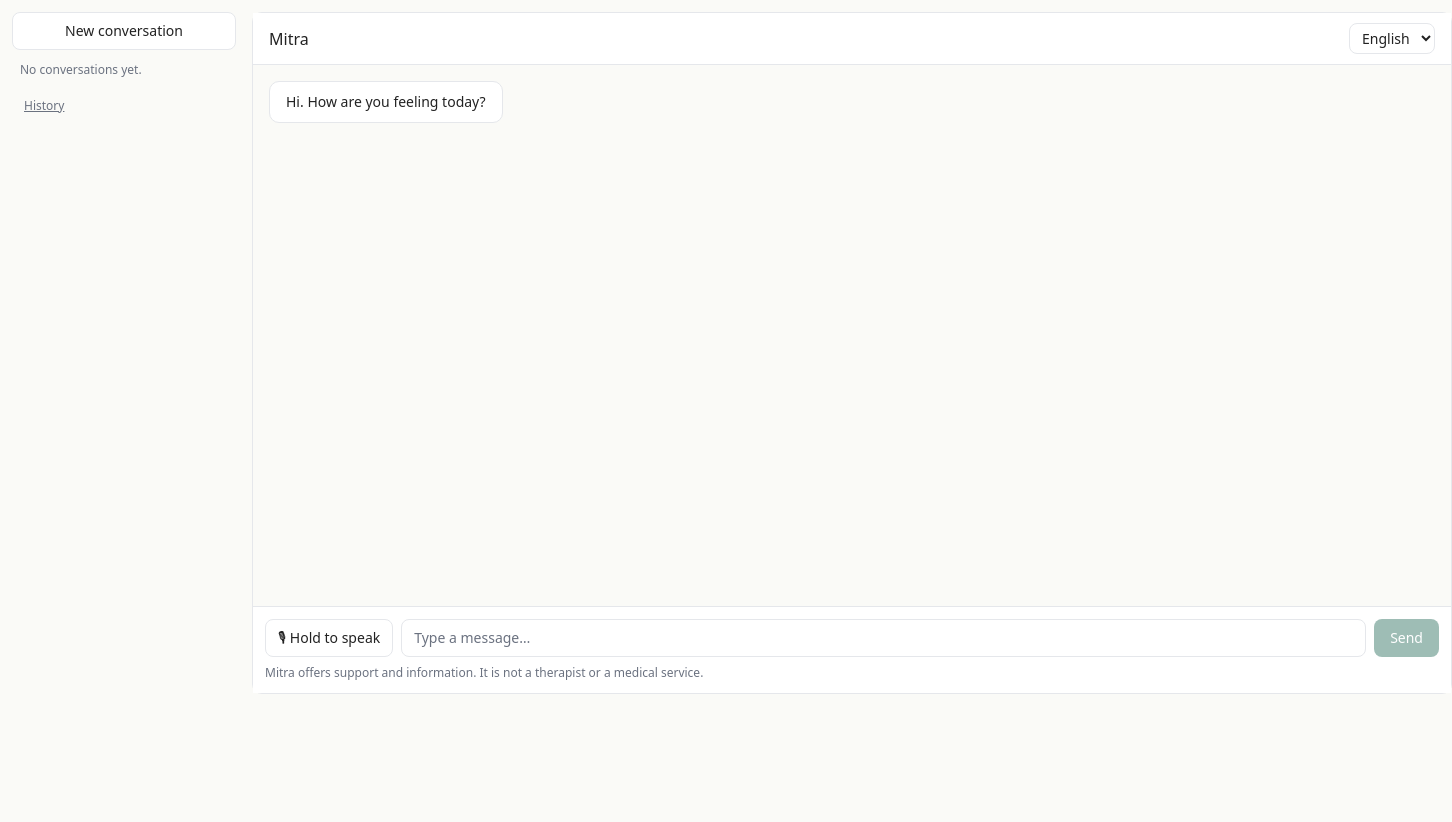
Test: Chat › shows a friendly error and keeps the input usable when the AI is down
Type "hello" into the field labelled "Type a message…" at (884, 638), box left=401, top=619, right=1366, bottom=657
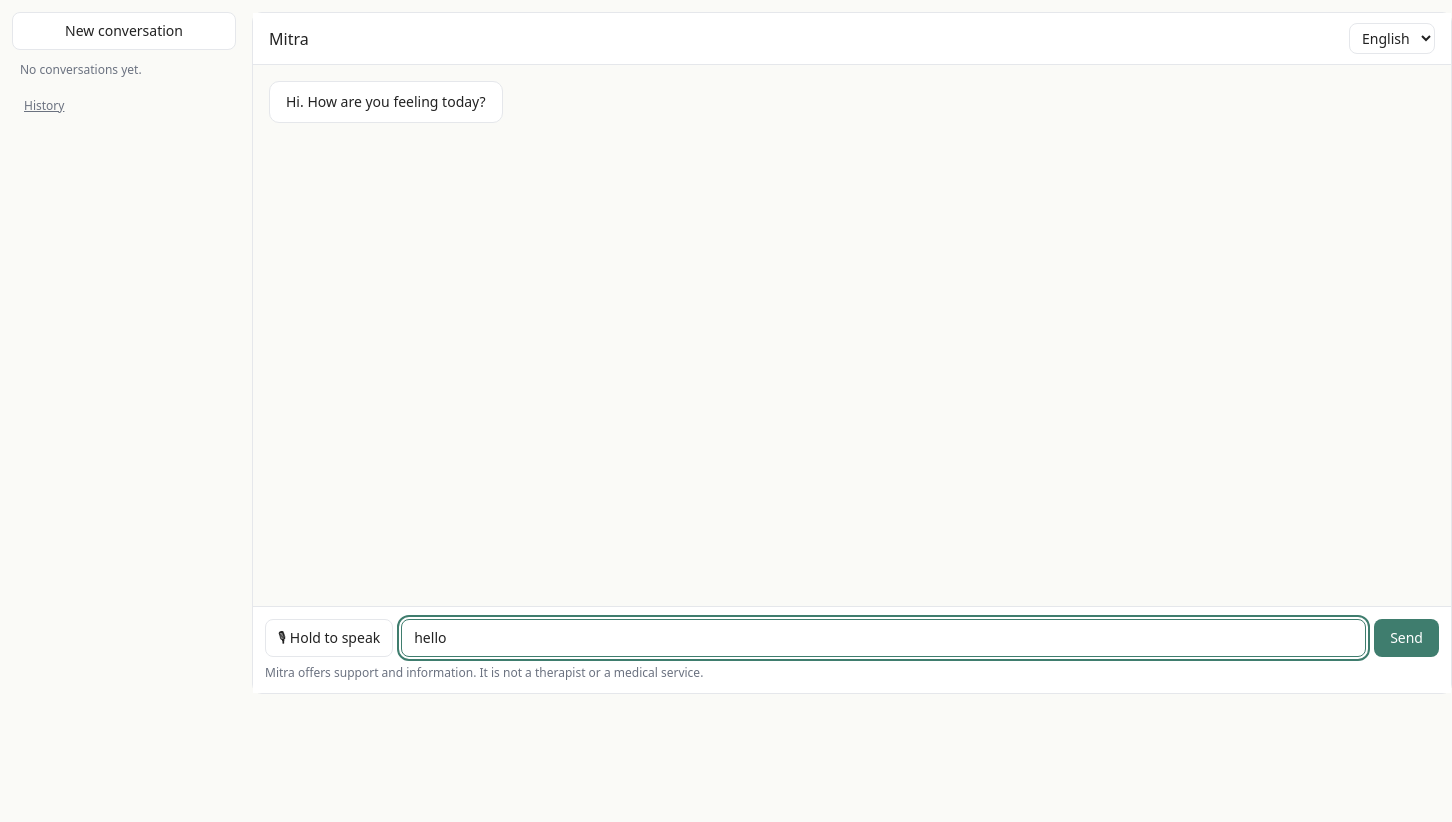
Click the button "Send" at (1407, 638), box left=1374, top=619, right=1439, bottom=657
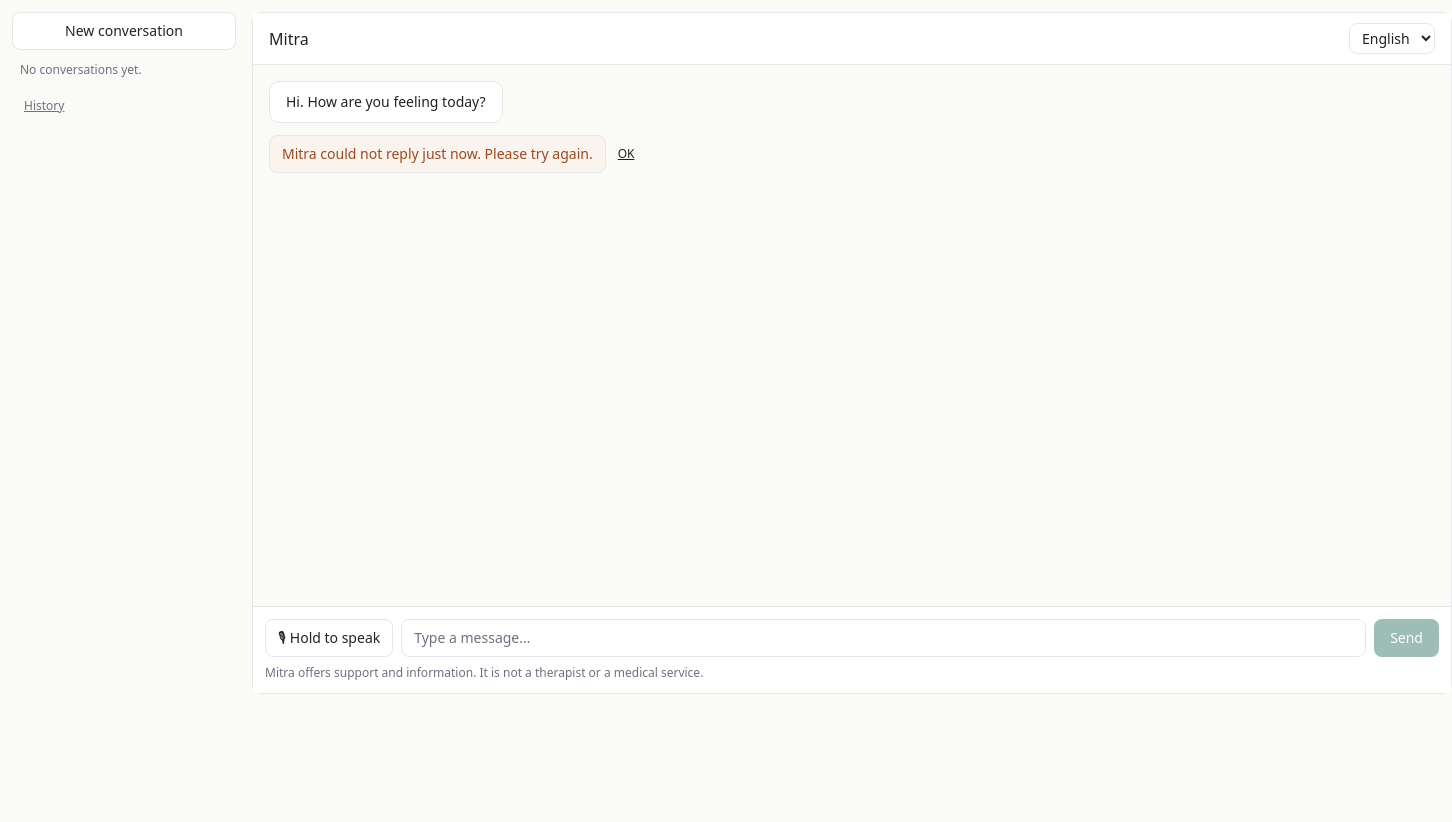
Expected: the field labelled "Type a message…" is enabled, left=401, top=619, right=1366, bottom=657
Expected: the message shows "could not reply", left=282, top=144, right=593, bottom=163
